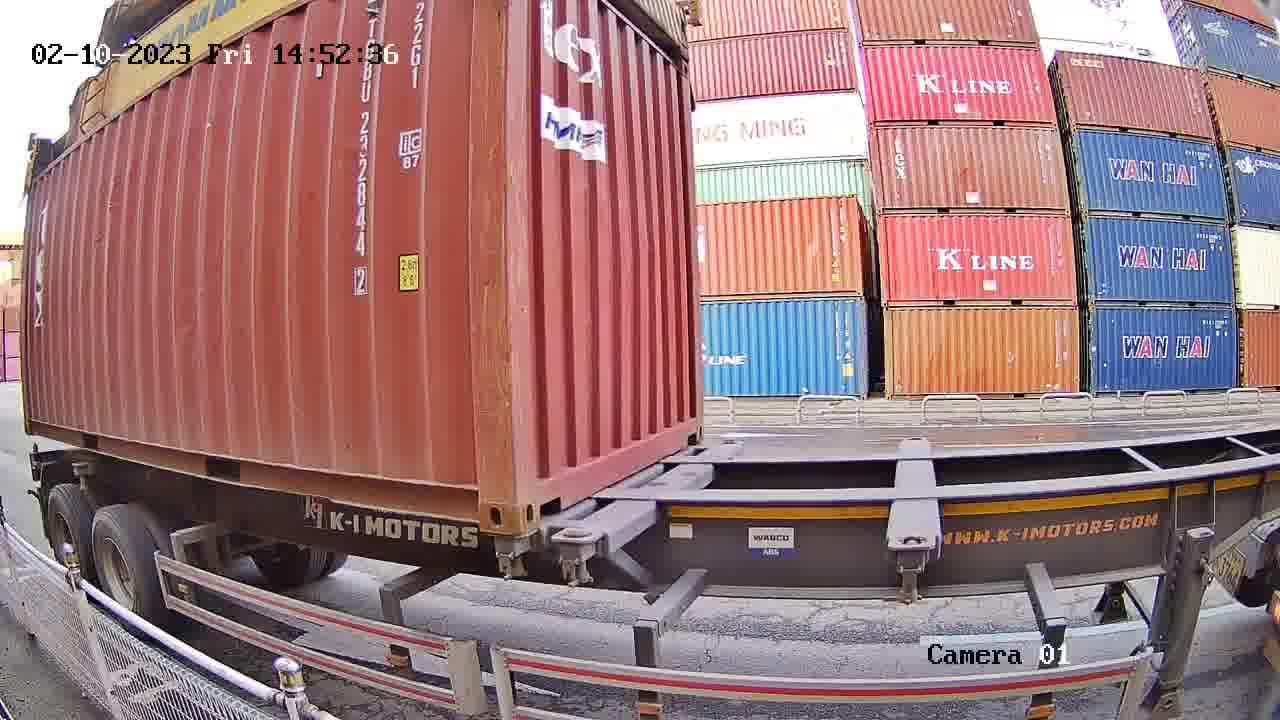Chassis: (548, 443, 741, 559)
Cone: (549, 527, 604, 586), (492, 536, 530, 576)
Hole_L: (514, 456, 562, 538)
Hole_R: (449, 467, 518, 536), (678, 401, 705, 451)
Tire: (92, 512, 149, 626), (46, 488, 88, 591)
